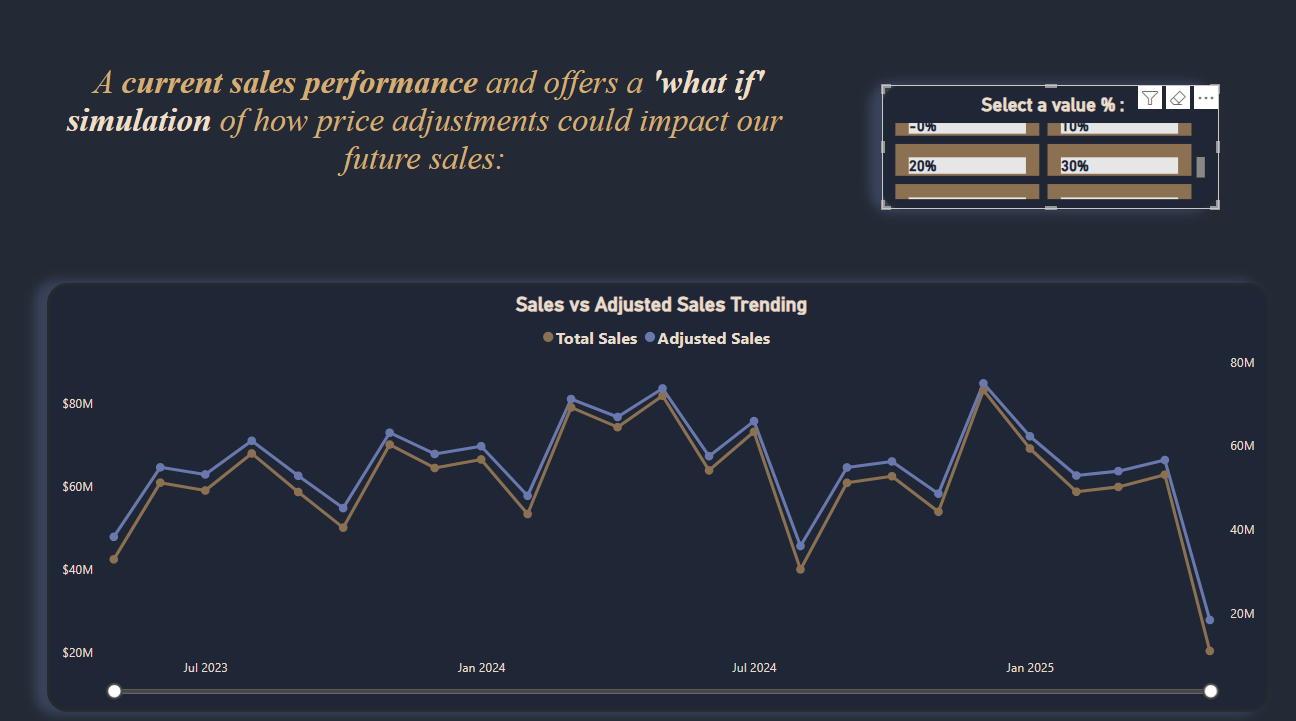

Layout of this report page (visuals, bound fields, positions):
{"tool":"powerbi","page":{"name":"Sales Adjustment ","canvas":[1280,720],"ordinal":5},"visuals":[{"type":"advancedSlicerVisual","title":"Select a value % :","fields":{"Values":["Price Adjustment (%).Value"]},"box":[55.2,154.9,327.8,120.1],"z":0},{"type":"textbox","box":[65.4,67.2,1149.1,106.9],"z":2000},{"type":"lineChart","title":"Sales vs Adjusted Sales Trending","fields":{"Category":["Rolling Calender.Start of Month.Variation.Date Hierarchy.Year","Rolling Calender.Start of Month.Variation.Date Hierarchy.Quarter","Rolling Calender.Start of Month.Variation.Date Hierarchy.Month","Rolling Calender.Start of Month.Variation.Date Hierarchy.Day"],"Y":["Measures Tabel.Total Sales"],"Y2":["Price Adjustment (%).Adjusted Sales1"]},"box":[55.3,285.5,1189.5,417.2],"z":3003}]}

Visuals, with their boxes in screenshot pixels (x1, y1, x2, y2), scaled from the page's 1280x720 canvas onto the 1296x721 screenshot:
"Select a value % :" advancedSlicerVisual: 56, 155, 388, 275
textbox: 66, 67, 1230, 174
"Sales vs Adjusted Sales Trending" lineChart: 56, 286, 1260, 704
